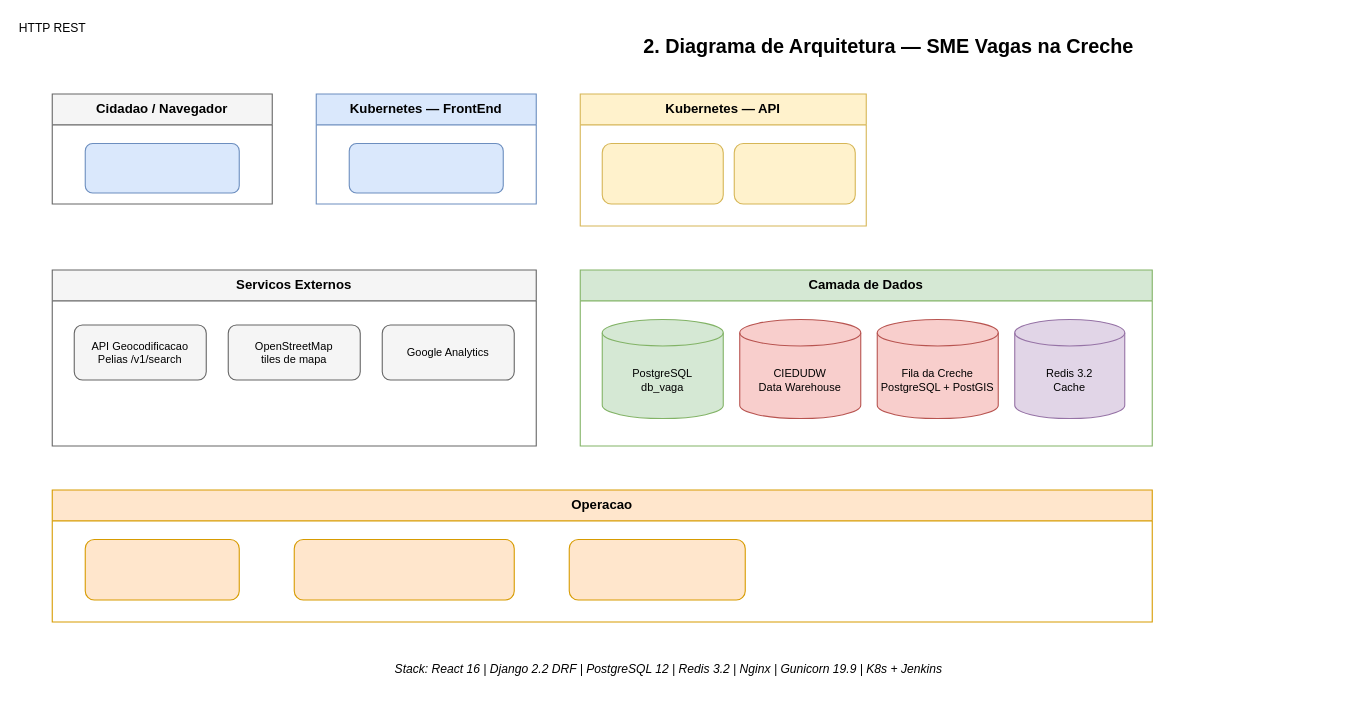
The diagram is 1348 pixels wide and 706 high, and some of its shapes have lost their labels. Each missing label, with the centre of its shape:
"Gunicorn Django DRF :8000 8 workers" goes at (794,173).
"Jenkins CI/CD" goes at (161,569).
"Nginx assets estaticos" goes at (425,167).
"Nginx reverse proxy :80" goes at (662,173).
"Notificacoes Telegram" goes at (656,569).
"Registry SME registry.sme.prefeitura.sp.gov.br" goes at (403,569).
"SPA React /vaga-na-creche" goes at (161,167).
